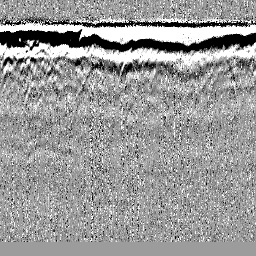cavity: (119, 55, 138, 84)
